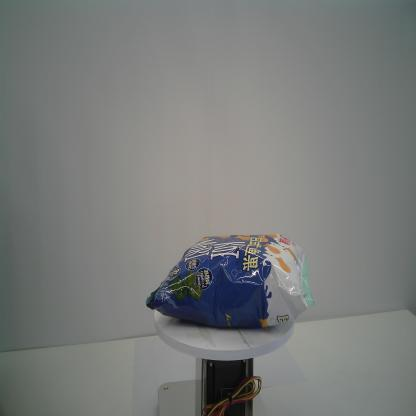Puffed Food: (145, 233, 316, 330)
